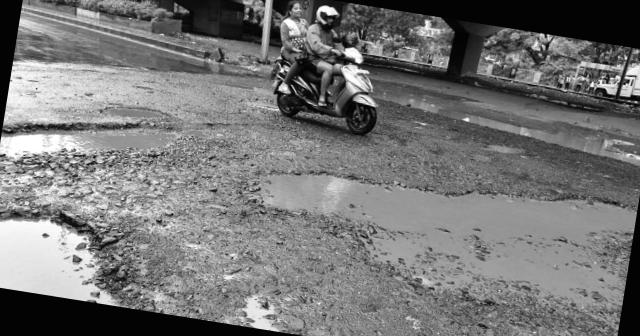Pothole: (217, 129, 640, 336), (284, 56, 640, 188), (0, 72, 226, 210), (0, 177, 166, 310)
